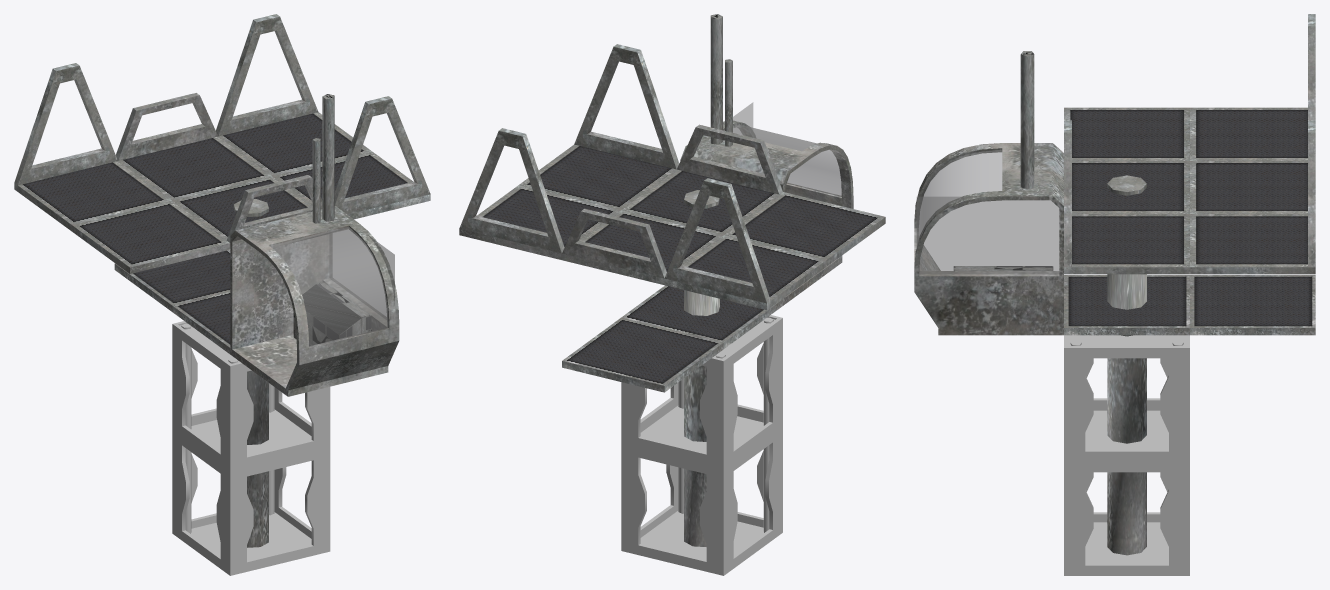
Rendered from CranePlatform.FBX.
3 views of the same model, side by side, from view 1: azimuth 30°, elevation 25°; view 2: azimuth 150°, elevation 25°; view 3: azimuth 270°, elevation 25° (orthographic). The views are drawn at different scales.
Visible parts, largest first — view 1: CraneCab, Box003, Plane004, Plane005, Box009; view 2: CraneCab, Box003, Plane004; view 3: CraneCab, Box003, Plane005, Plane004.
Boxes of the visible parts, x1,y1,x2,y2 form: CraneCab: (14,14,430,547); Box003: (172,321,330,575); Plane004: (270,227,388,347); Plane005: (329,229,394,319); Box009: (293,282,371,346); CraneCab: (459,14,885,546); Box003: (621,315,782,575); Plane004: (724,124,841,196); CraneCab: (914,14,1315,555); Box003: (1064,335,1189,575); Plane005: (916,196,1062,274); Plane004: (917,149,1002,243).
Size of the model in its own units: 12 by 17.99 by 12.77.
